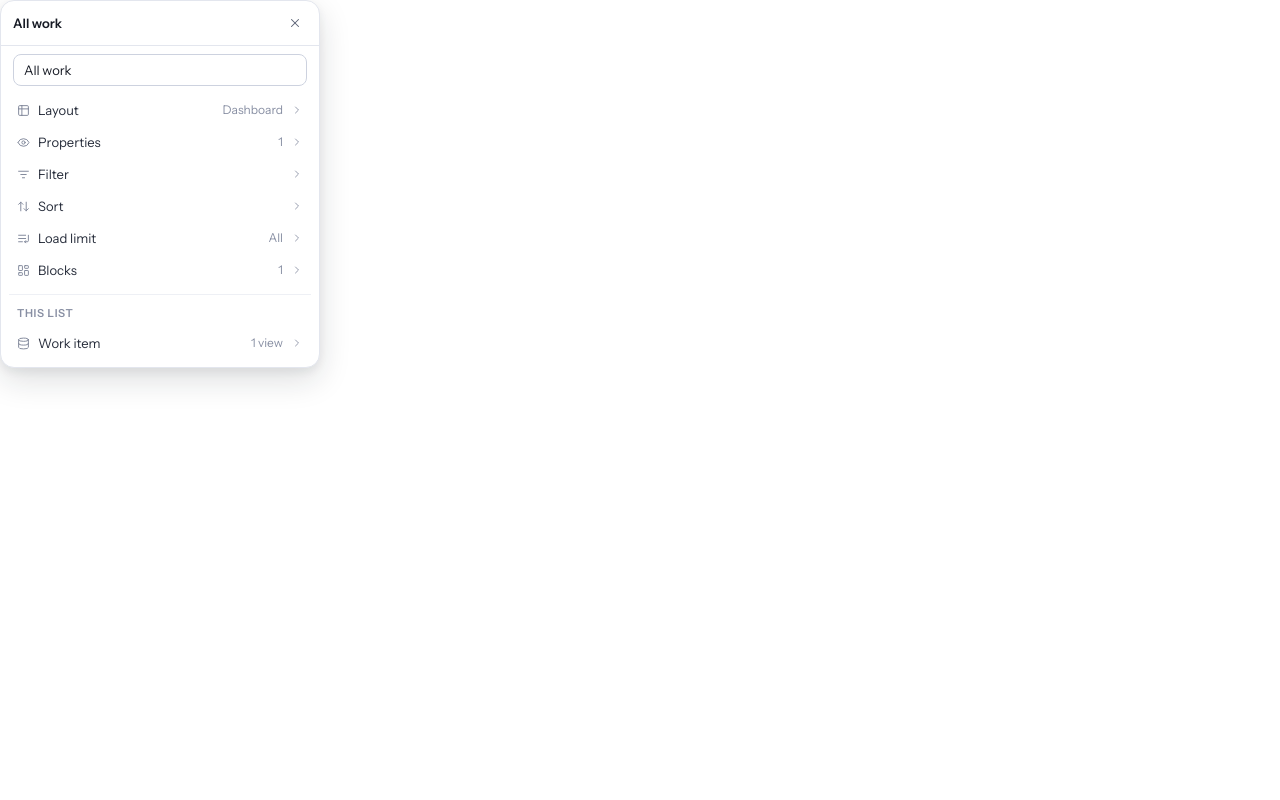
Test: blocks page (M44.4) › counts widgets and points at the canvas instead of editing blocks
Click the button with test id "view-settings-blocks". click: [57, 270]
box: [9,254,311,286]
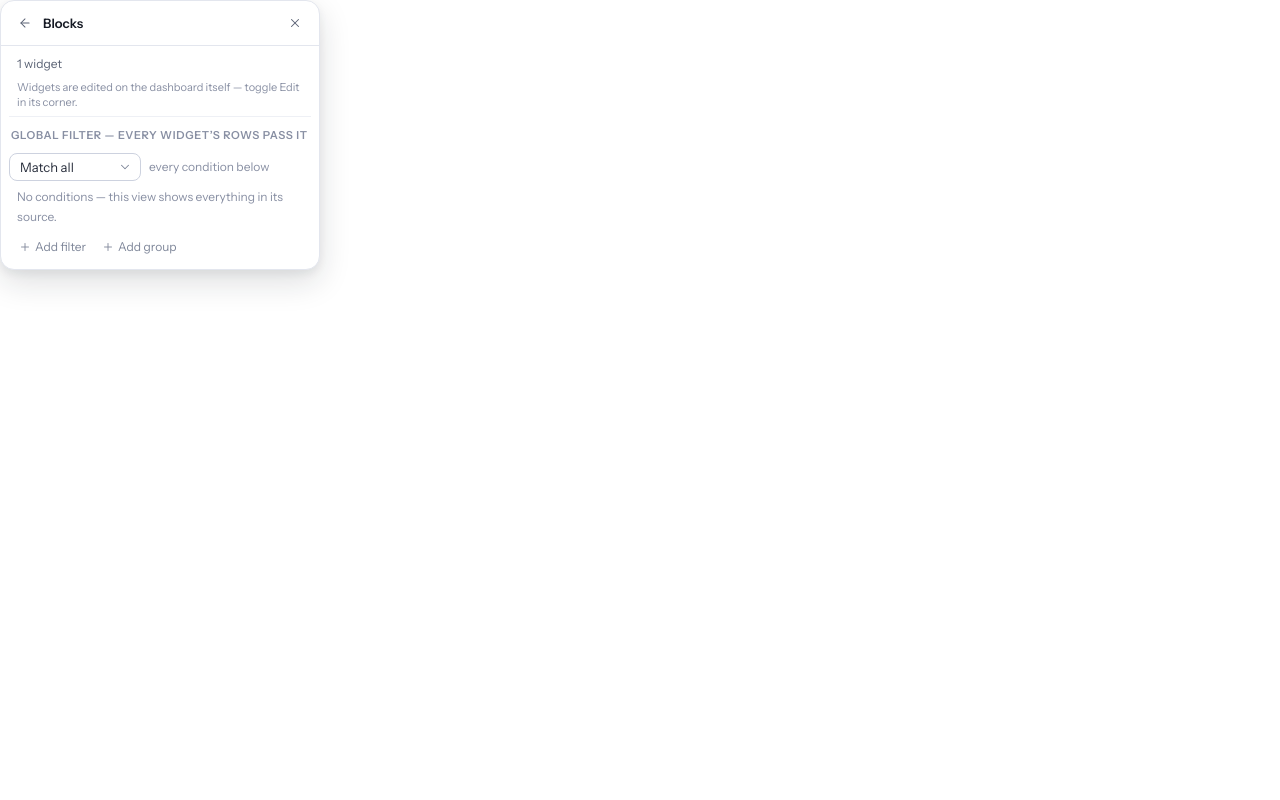
Expected: the text "1 widget" is shown, [17,56,62,71]
Expected: the text "edited on the dashboard itself" is shown, [17,80,299,109]
